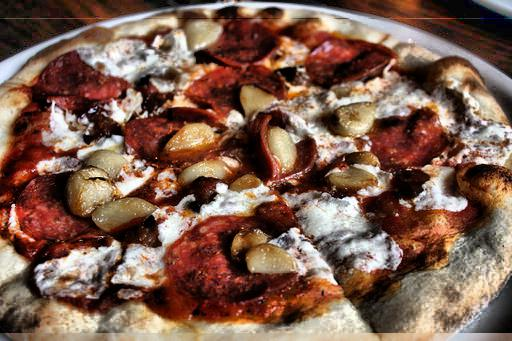pizza: (2, 7, 511, 341)
